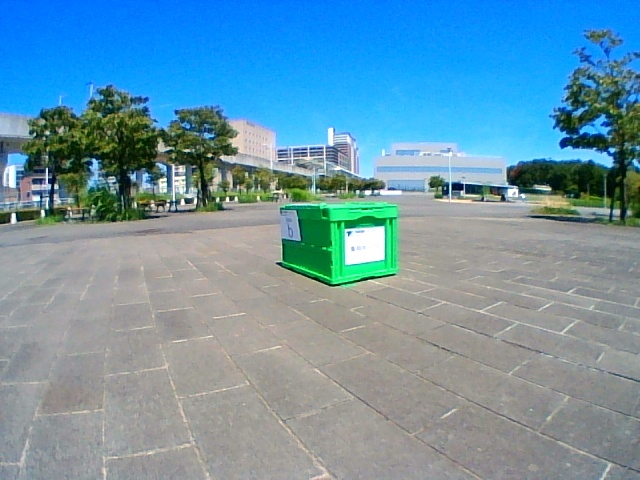green_box: (280, 204, 397, 284)
tag_b: (281, 211, 296, 241)
